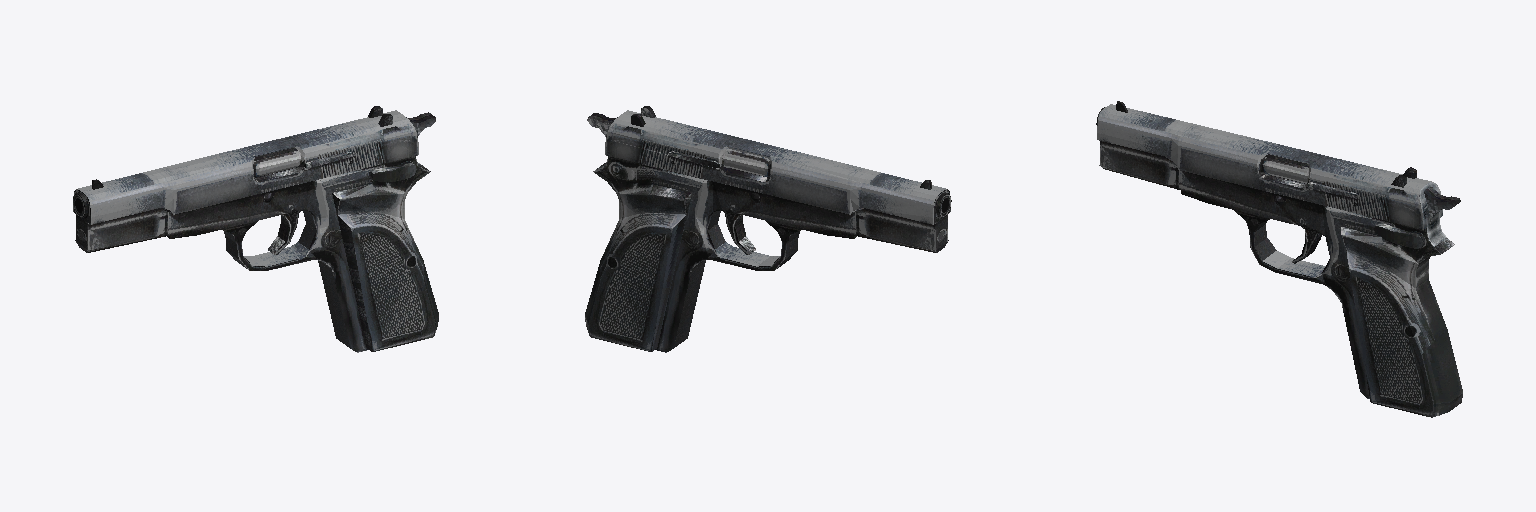
The picture shows the model from 3 angles: view 1: azimuth 30°, elevation 25°; view 2: azimuth 150°, elevation 25°; view 3: azimuth 330°, elevation 25°; orthographic projection.
Visible parts, largest first — view 1: Hpsa; view 2: Hpsa; view 3: Hpsa.
Boxes of the visible parts, <box> form: Hpsa: <box>73,106,438,352</box>; Hpsa: <box>585,106,951,352</box>; Hpsa: <box>1096,101,1462,417</box>.
Size of the model in its own units: 3.45 by 2.13 by 0.4386.
1 materials, 1 textured.